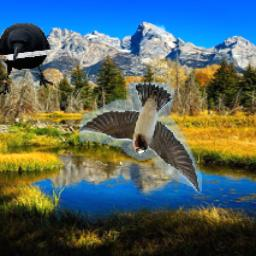Crow: (0, 23, 54, 96)
Swallow: (79, 84, 202, 195)
